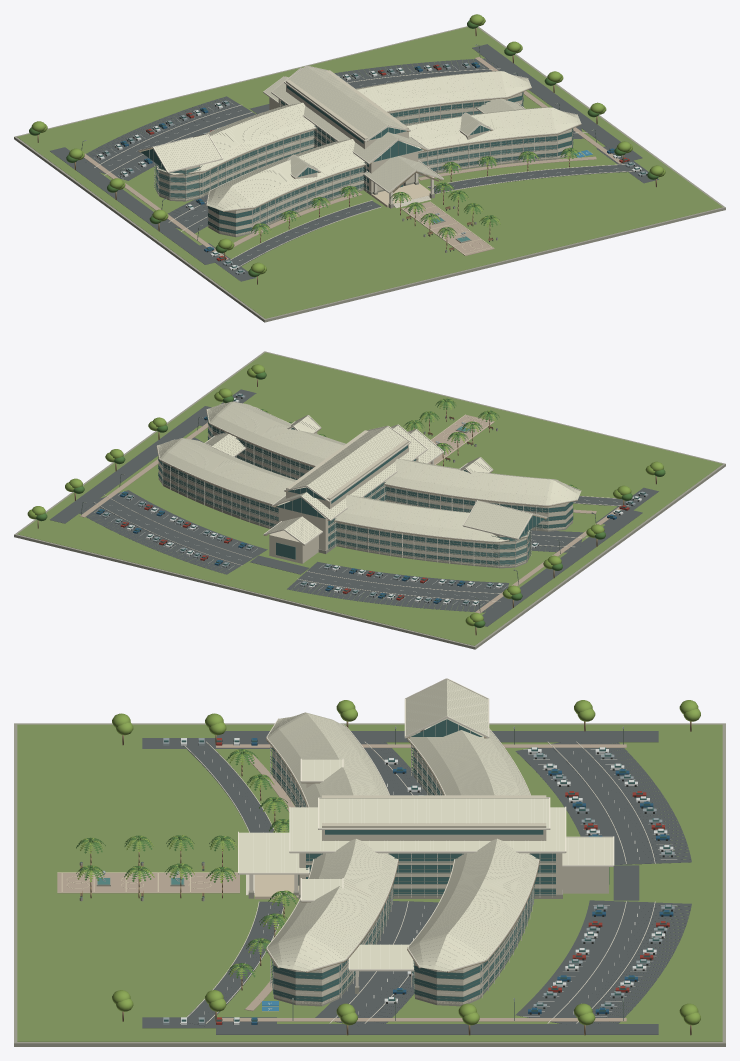
Rendered from bdara.glb.
The picture shows the model from 3 angles, top to bottom: view 1: azimuth 30°, elevation 25°; view 2: azimuth 150°, elevation 25°; view 3: azimuth 270°, elevation 25°; orthographic projection. The views are drawn at different scales.
Visible parts, largest first — view 1: BDARA_Lawn, BDARA_SiteBase, BDARA_Front_West_Wing_FoldedRoof, BDARA_SidePerimeterDrive, BDARA_Rear_East_Wing_FoldedRoof, BDARA_RearParkingAprons, BDARA_Front_East_Wing_FoldedRoof, BDARA_Rear_West_Wing_FoldedRoof, BDARA_Front_CurvedDrive, BDARA_UpperCentralGable_Roof, BDARA_Rear_CurvedDrive, BDARA_Front_West_Wing (+37 smaller); view 2: BDARA_Lawn, BDARA_RearParkingAprons, BDARA_Front_West_Wing_FoldedRoof, BDARA_SiteBase, BDARA_SidePerimeterDrive, BDARA_Rear_East_Wing_FoldedRoof, BDARA_Front_East_Wing_FoldedRoof, BDARA_Rear_West_Wing_FoldedRoof, BDARA_Rear_CurvedDrive, BDARA_UpperCentralGable_Roof, BDARA_Rear_West_Wing, BDARA_ShadeTreeCrowns_LeafLight (+37 smaller); view 3: BDARA_Lawn, BDARA_RearParkingAprons, BDARA_Rear_East_Wing_FoldedRoof, BDARA_Front_East_Wing_FoldedRoof, BDARA_SidePerimeterDrive, BDARA_SiteBase, BDARA_Rear_CurvedDrive, BDARA_Front_West_Wing_FoldedRoof, BDARA_UpperCentralGable_Roof, BDARA_Rear_West_Wing_FoldedRoof, BDARA_Front_CurvedDrive, BDARA_ShadeTreeCrowns_LeafLight (+42 smaller).
Boxes of the visible parts, <box> form: BDARA_Lawn: <box>17,27,722,318</box>; BDARA_SiteBase: <box>14,26,725,322</box>; BDARA_Front_West_Wing_FoldedRoof: <box>207,139,365,210</box>; BDARA_SidePerimeterDrive: <box>50,44,642,264</box>; BDARA_Rear_East_Wing_FoldedRoof: <box>356,71,531,111</box>; BDARA_RearParkingAprons: <box>82,58,499,180</box>; BDARA_Front_East_Wing_FoldedRoof: <box>405,107,580,149</box>; BDARA_Rear_West_Wing_FoldedRoof: <box>157,102,315,174</box>; BDARA_Front_CurvedDrive: <box>222,164,635,269</box>; BDARA_UpperCentralGable_Roof: <box>285,66,403,140</box>; BDARA_Rear_CurvedDrive: <box>91,68,505,173</box>; BDARA_Front_West_Wing: <box>208,166,363,235</box>; BDARA_Lawn: <box>17,352,722,645</box>; BDARA_RearParkingAprons: <box>79,490,508,612</box>; BDARA_Front_West_Wing_FoldedRoof: <box>385,458,580,504</box>; BDARA_SiteBase: <box>14,351,725,649</box>; BDARA_SidePerimeterDrive: <box>49,406,642,626</box>; BDARA_Rear_East_Wing_FoldedRoof: <box>157,438,296,505</box>; BDARA_Front_East_Wing_FoldedRoof: <box>207,401,345,465</box>; BDARA_Rear_West_Wing_FoldedRoof: <box>335,495,529,541</box>; BDARA_Rear_CurvedDrive: <box>91,497,505,602</box>; BDARA_UpperCentralGable_Roof: <box>291,426,409,500</box>; BDARA_Rear_West_Wing: <box>336,521,499,566</box>; BDARA_ShadeTreeCrowns_LeafLight: <box>27,364,663,626</box>; BDARA_Lawn: <box>17,724,722,1041</box>; BDARA_RearParkingAprons: <box>515,742,691,1023</box>; BDARA_Rear_East_Wing_FoldedRoof: <box>408,838,538,971</box>; BDARA_Front_East_Wing_FoldedRoof: <box>267,839,397,971</box>; BDARA_SidePerimeterDrive: <box>216,731,658,1034</box>; BDARA_SiteBase: <box>14,723,725,1046</box>; BDARA_Rear_CurvedDrive: <box>550,739,654,1026</box>; BDARA_Front_West_Wing_FoldedRoof: <box>267,712,388,807</box>; BDARA_UpperCentralGable_Roof: <box>319,798,548,827</box>; BDARA_Rear_West_Wing_FoldedRoof: <box>409,718,529,795</box>; BDARA_Front_CurvedDrive: <box>183,740,283,1026</box>; BDARA_ShadeTreeCrowns_LeafLight: <box>112,700,700,1025</box>.
Bounding box in the file's own units: 236 × 30.6 × 222.
